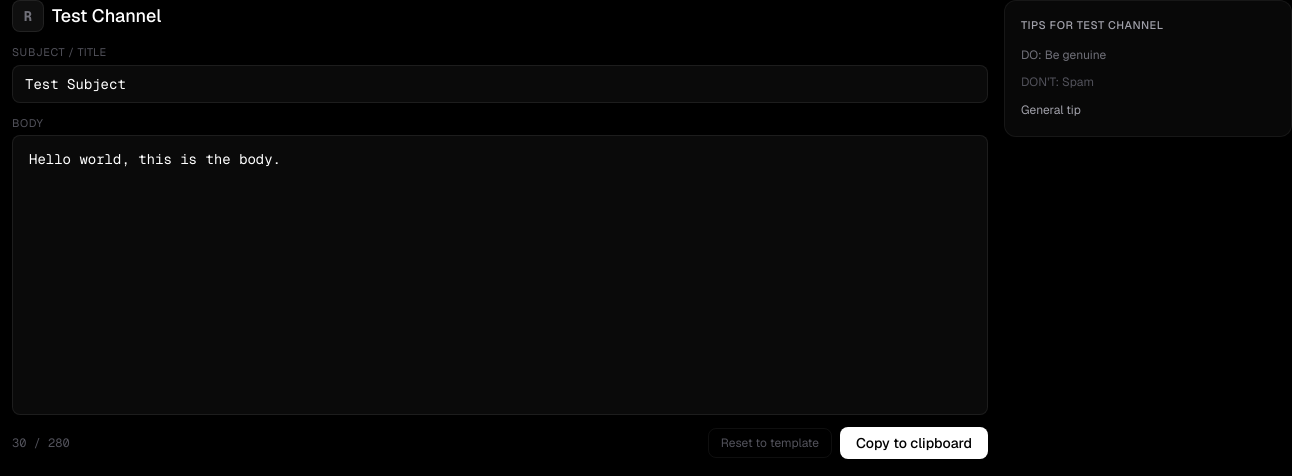
Test: OutreachEditor › resets to template values when reset button is clicked
Replace the text in the text box with placeholder "Write your outreach message..." with "Modified body" at (500, 275), box [12, 135, 988, 415]
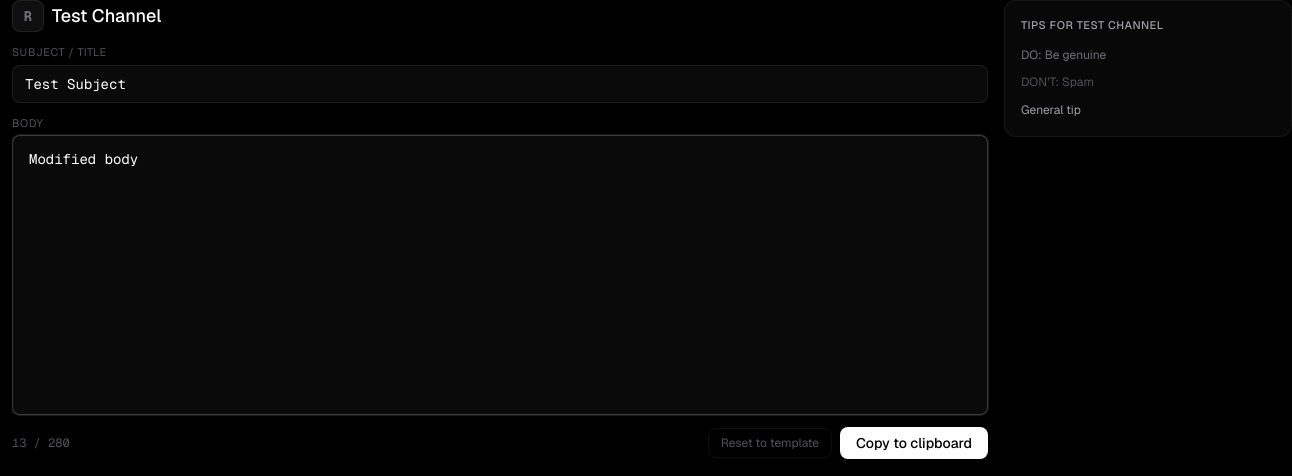
Click the button "Reset to template" at (770, 443), box [708, 428, 832, 458]
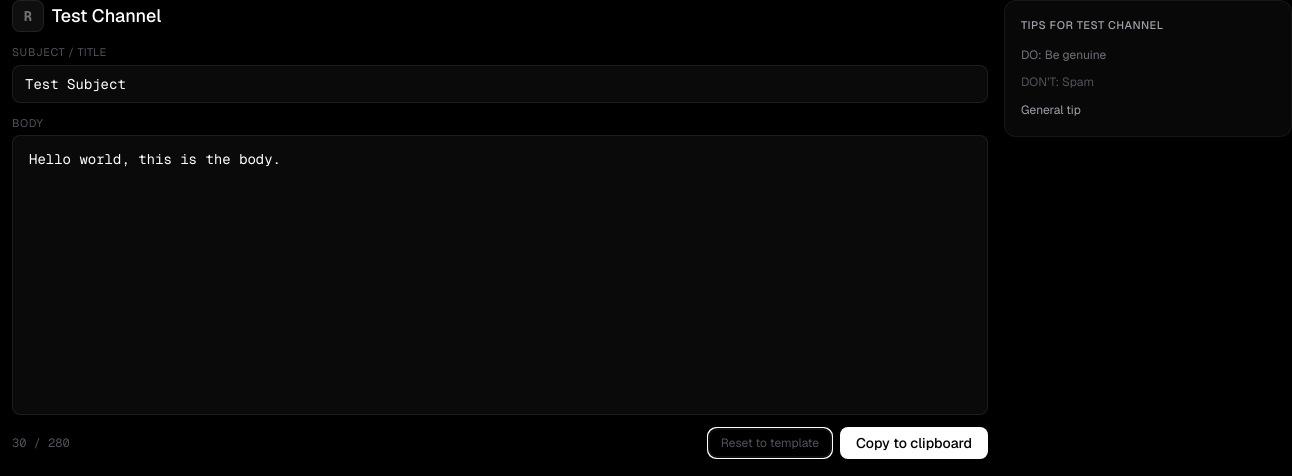
expect the text box with placeholder "Write your outreach message..." holds "Hello world, this is the body.": met, box [12, 135, 988, 415]
